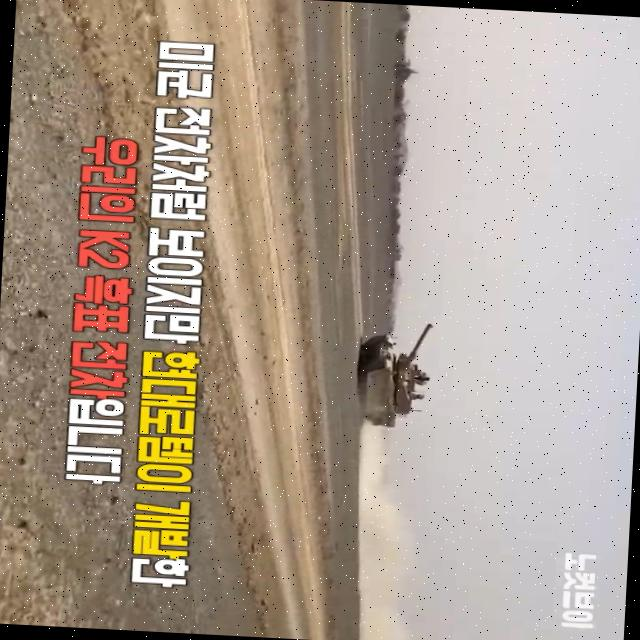korea tank: (357, 319, 438, 429)
